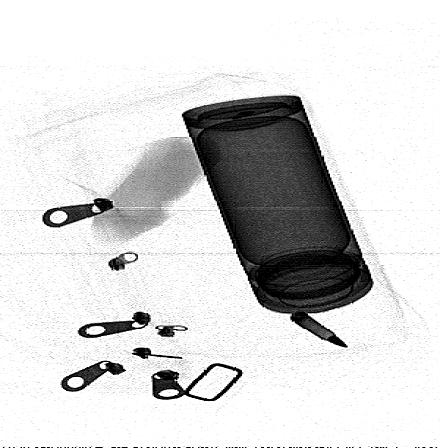Bullet: (288, 309, 352, 349)
